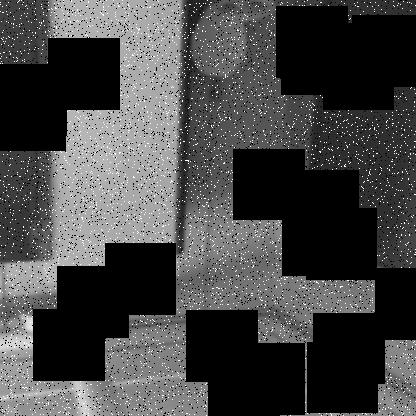Porte: (172, 0, 416, 281)
